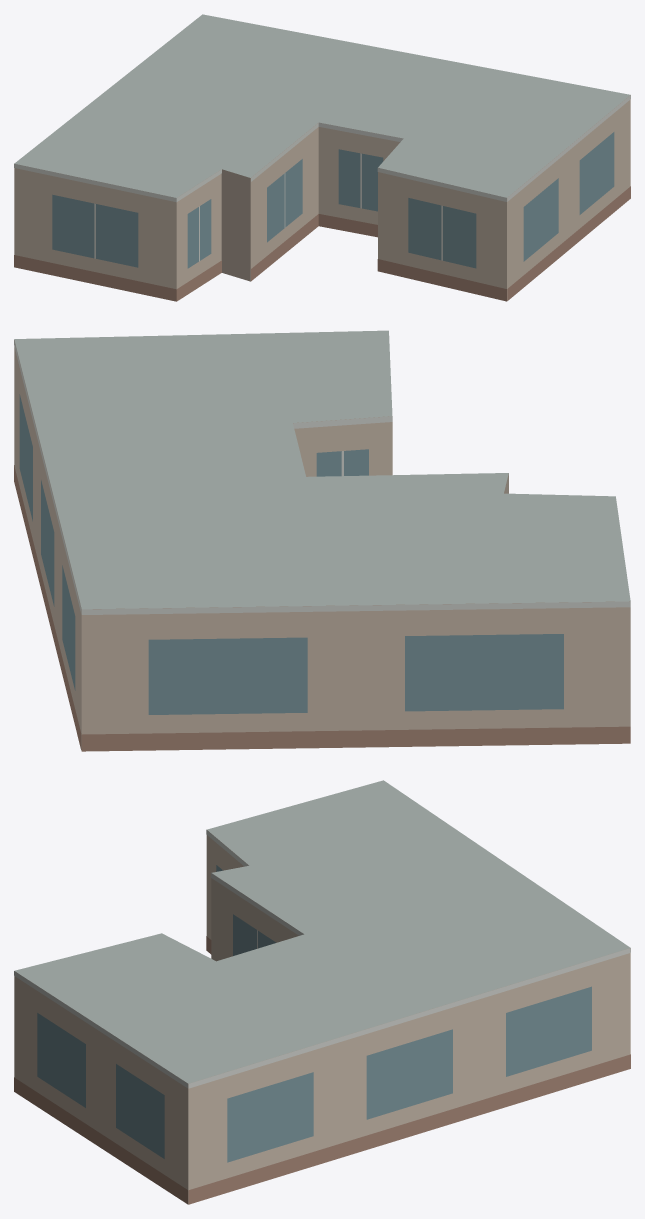
The model's file is survey-upis-32763178.glb.
3 views of the same model, one above another, from view 1: azimuth 30°, elevation 25°; view 2: azimuth 150°, elevation 25°; view 3: azimuth 270°, elevation 25° (orthographic). The views are drawn at different scales.
Visible parts, largest first — view 1: survey-upis-32763178.tmp; view 2: survey-upis-32763178.tmp; view 3: survey-upis-32763178.tmp.
Part boxes in pixels (x1,y1,x2,y2): survey-upis-32763178.tmp: (14, 14, 630, 301); survey-upis-32763178.tmp: (14, 330, 630, 751); survey-upis-32763178.tmp: (14, 780, 630, 1204).
Bounding box in the file's own units: 16.43 × 3.05 × 14.11.
